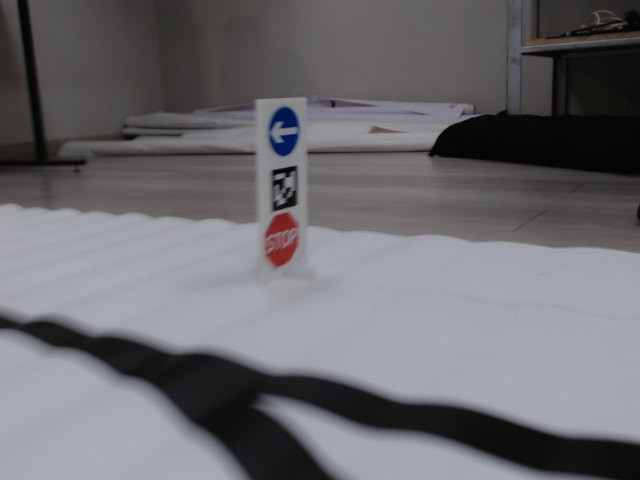Stop: (262, 212, 301, 267)
